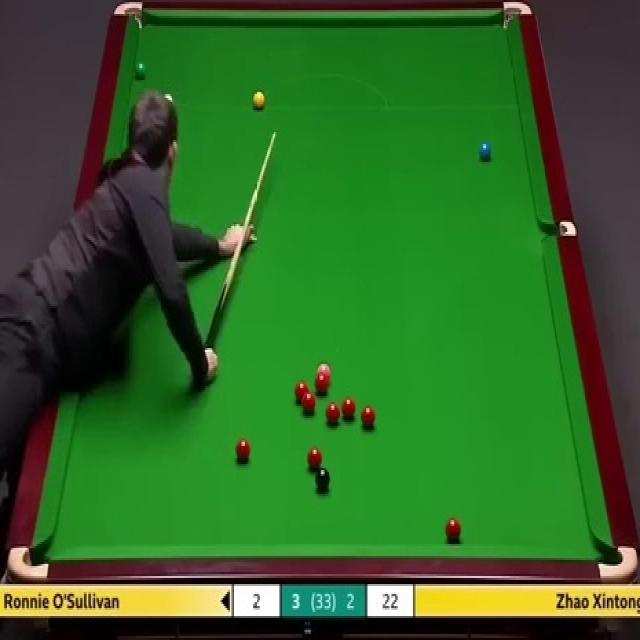pocket: (597, 540, 639, 582), (6, 542, 49, 582), (110, 1, 143, 30), (503, 1, 534, 30), (543, 221, 577, 240)
